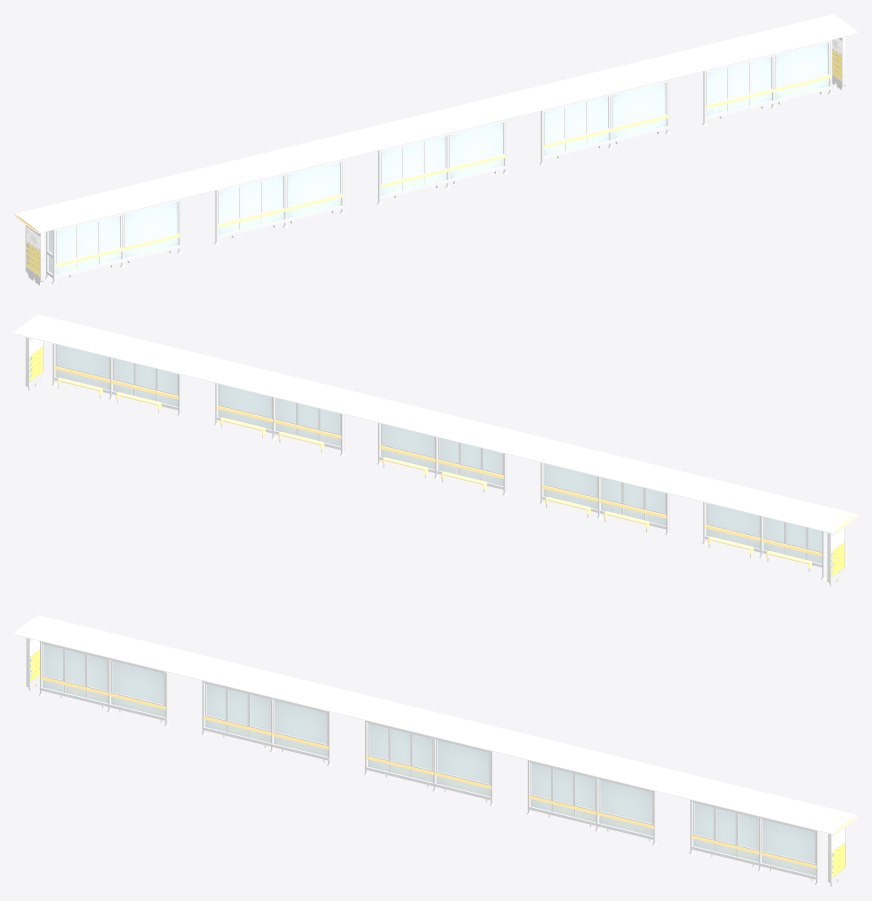
File: Bus_Stop_2.glb
The picture shows the model from 3 angles, top to bottom: view 1: azimuth 30°, elevation 25°; view 2: azimuth 150°, elevation 25°; view 3: azimuth 330°, elevation 25°; orthographic projection.
Parts seen in each view (by area): view 1: Bus_Stop_2; view 2: Bus_Stop_2; view 3: Bus_Stop_2.
Part boxes in pixels (x1,y1,x2,y2): Bus_Stop_2: (14,14,857,285); Bus_Stop_2: (14,314,857,586); Bus_Stop_2: (14,615,857,886).
Size of the model in its own units: 37.5 by 2.7 by 2.
5 materials, 3 textured.
